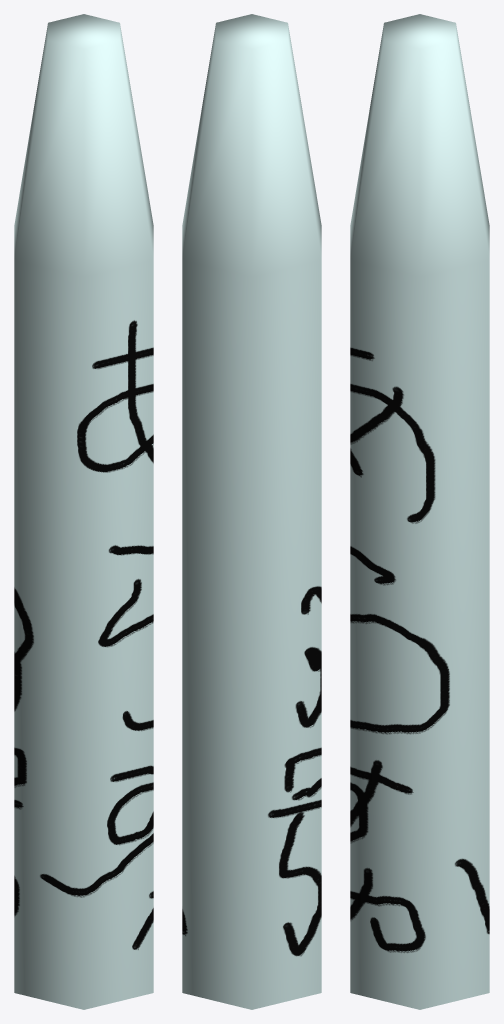
Rendered from missile.FBX.
The picture shows the model from 3 angles, left to right: view 1: azimuth 30°, elevation 25°; view 2: azimuth 150°, elevation 25°; view 3: azimuth 270°, elevation 25°; orthographic projection.
Visible parts, largest first — view 1: Cylinder001; view 2: Cylinder001; view 3: Cylinder001.
Part boxes in pixels (x1,y1,x2,y2): Cylinder001: (14,14,153,1009); Cylinder001: (182,14,321,1009); Cylinder001: (350,14,489,1009).
Bounding box in the file's own units: 20 × 129 × 17.32.
